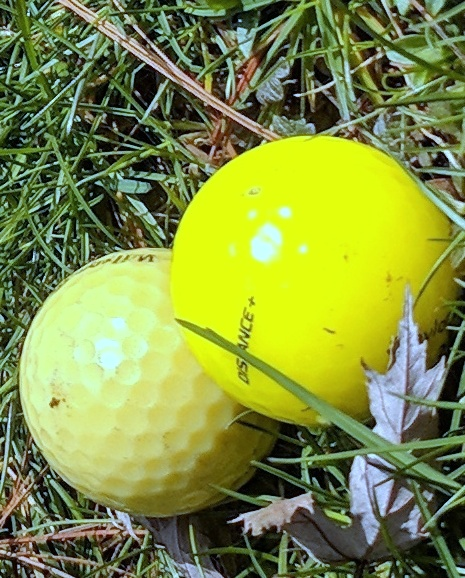ball: (168, 136, 461, 426)
